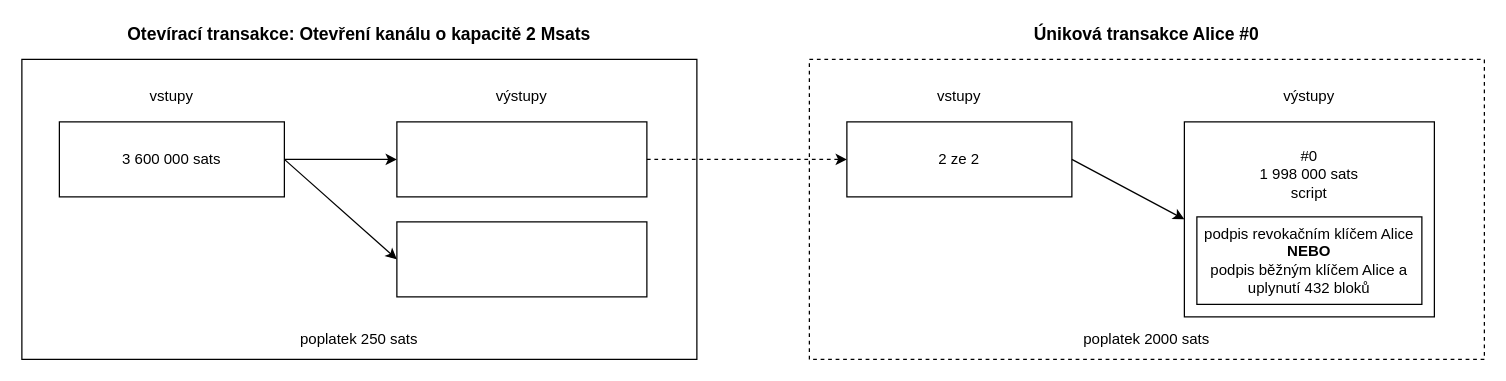
The diagram is 1506 pixels wide and 381 high, and some of its shapes have lost their labels. Here are the shapes that lost their labels. From the top down, the box of each, then its label:
(396, 121, 647, 197): #0 2 000 000 sats 2 ze 2 multisig
(396, 221, 647, 297): #1 1 599 750 sats p2wpkh (zbytek)
